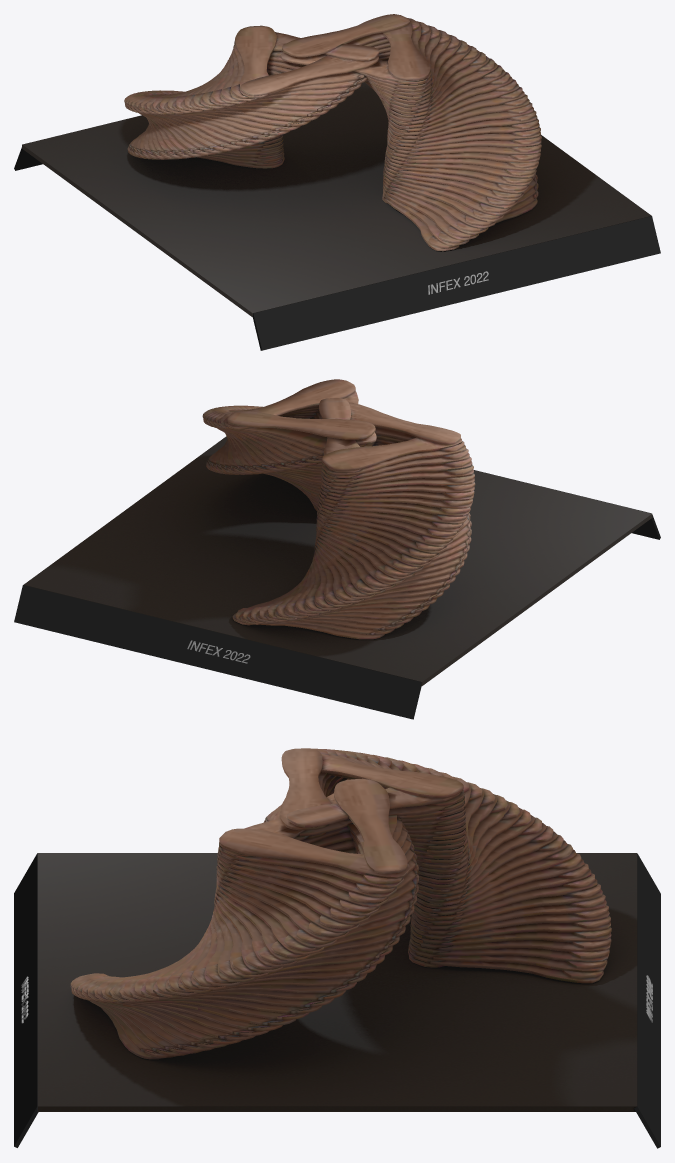
3 views of the same model, one above another, from view 1: azimuth 30°, elevation 25°; view 2: azimuth 150°, elevation 25°; view 3: azimuth 270°, elevation 25° (orthographic). The views are drawn at different scales.
Visible parts, largest first — view 1: Plane.016, Cube.003, Cube; view 2: Plane.016, Cube.003, Cube.001; view 3: Plane.016, Cube.003, Cube.001, Cube.
Boxes of the visible parts, x1,y1,x2,y2 form: Plane.016: (22, 82, 651, 317); Cube.003: (124, 14, 541, 251); Cube: (253, 216, 660, 350); Plane.016: (23, 436, 652, 685); Cube.003: (202, 379, 475, 639); Cube.001: (14, 585, 421, 719); Plane.016: (37, 853, 637, 1111); Cube.003: (70, 748, 611, 1059); Cube.001: (634, 854, 660, 1148); Cube: (14, 853, 38, 1147).
Size of the model in its own units: 5.94 by 2.35 by 6.4.
4 materials, 2 textured.
